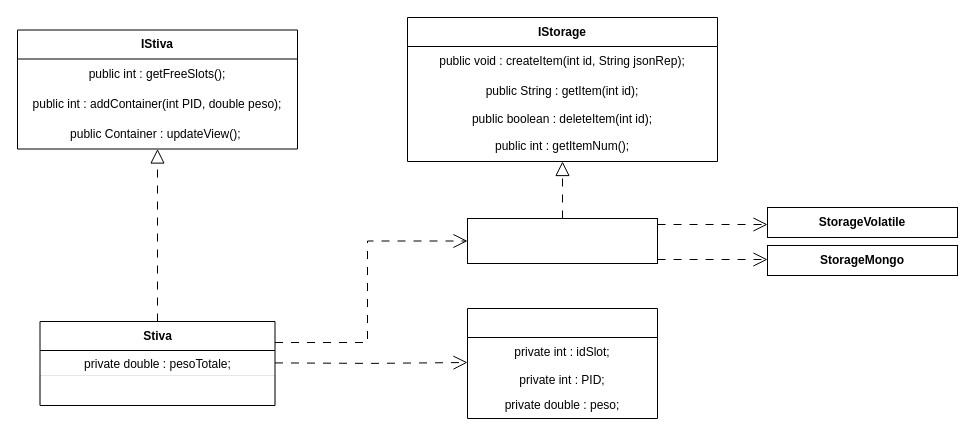
Some shapes in this 975 by 436 pixel diagram are drawn without their labels. Each missing label, with the box of its shape:
AdapterStorage: (466, 218, 658, 264)
Container: (466, 308, 658, 418)
private constant double : maxWeight;: (40, 375, 274, 405)
